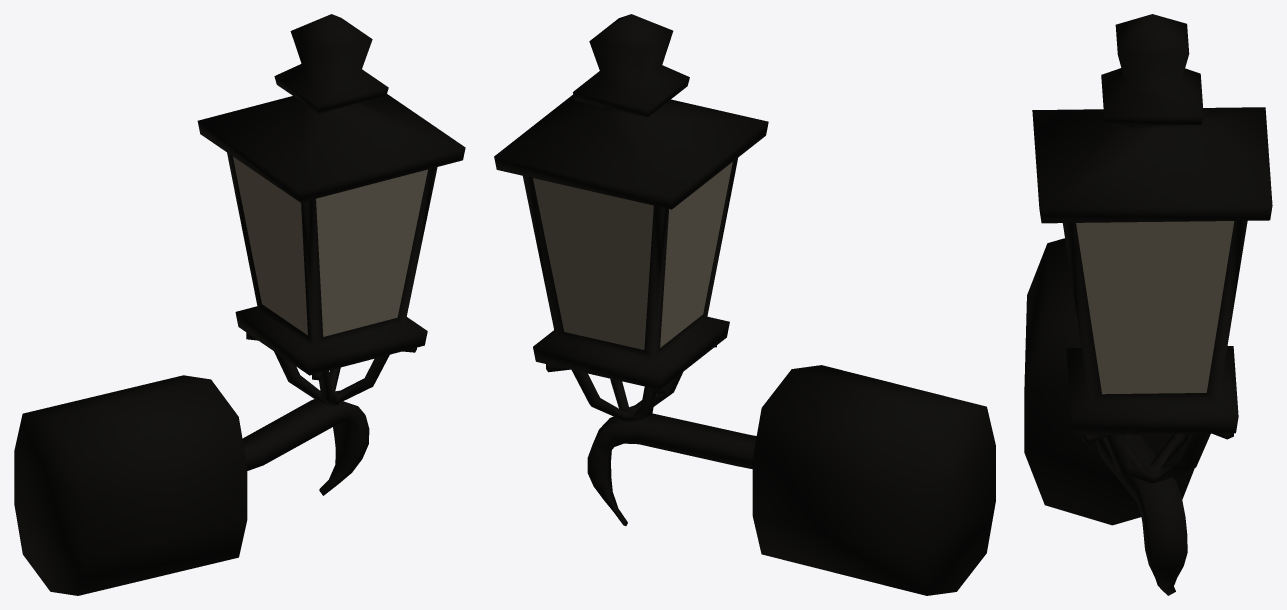
The model's file is Lamp_on_Wall.fbx.
The picture shows the model from 3 angles, left to right: view 1: azimuth 30°, elevation 25°; view 2: azimuth 150°, elevation 25°; view 3: azimuth 270°, elevation 25°; orthographic projection. The views are drawn at different scales.
Parts seen in each view (by area): view 1: Lamp_on_Wall; view 2: Lamp_on_Wall; view 3: Lamp_on_Wall.
Boxes of the visible parts, x1=… form: Lamp_on_Wall: x1=14, y1=14, x2=465, y2=595; Lamp_on_Wall: x1=494, y1=14, x2=995, y2=595; Lamp_on_Wall: x1=1024, y1=14, x2=1272, y2=595.
Size of the model in its own units: 0.4235 by 0.1976 by 0.5199.
